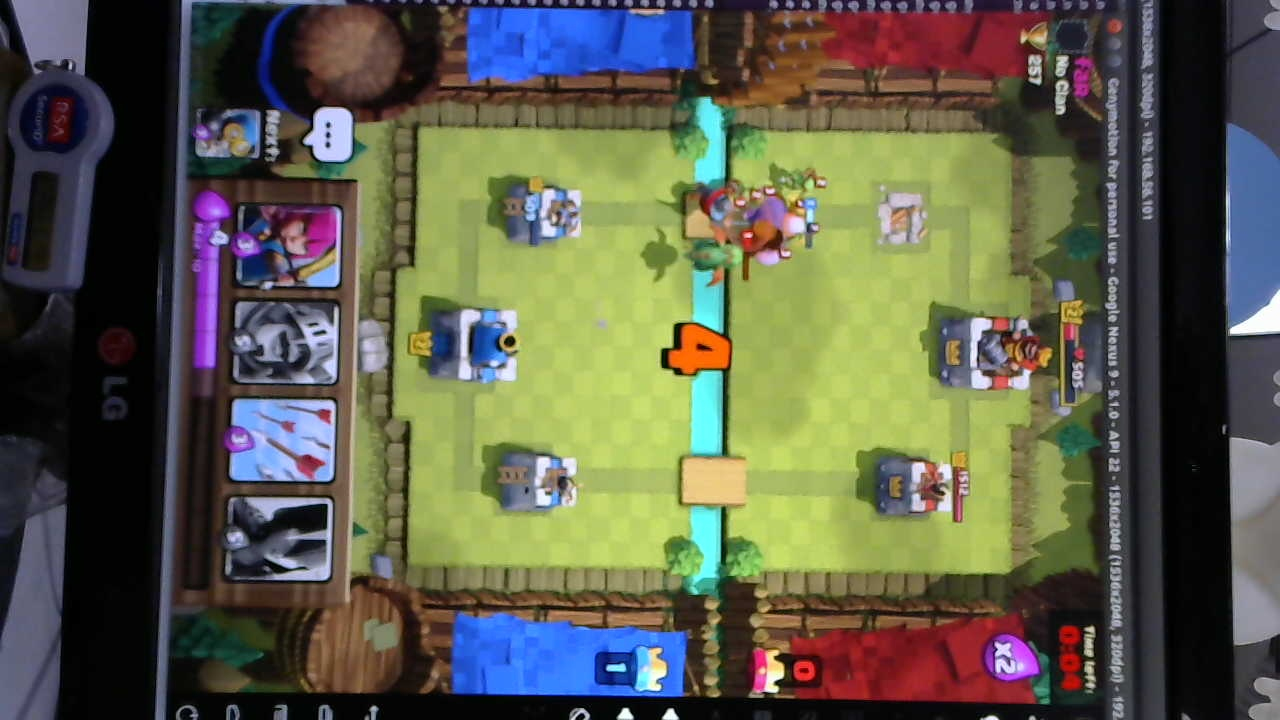arena: (496, 447, 581, 518), (501, 173, 582, 244)
darena: (870, 183, 930, 252)
dragon: (685, 227, 743, 287)
earena: (880, 455, 958, 522)
eking: (939, 310, 1046, 398)
giant: (743, 185, 808, 269)
king: (429, 297, 526, 388)
knight: (688, 178, 744, 227)
speargoblin: (776, 166, 826, 194)
